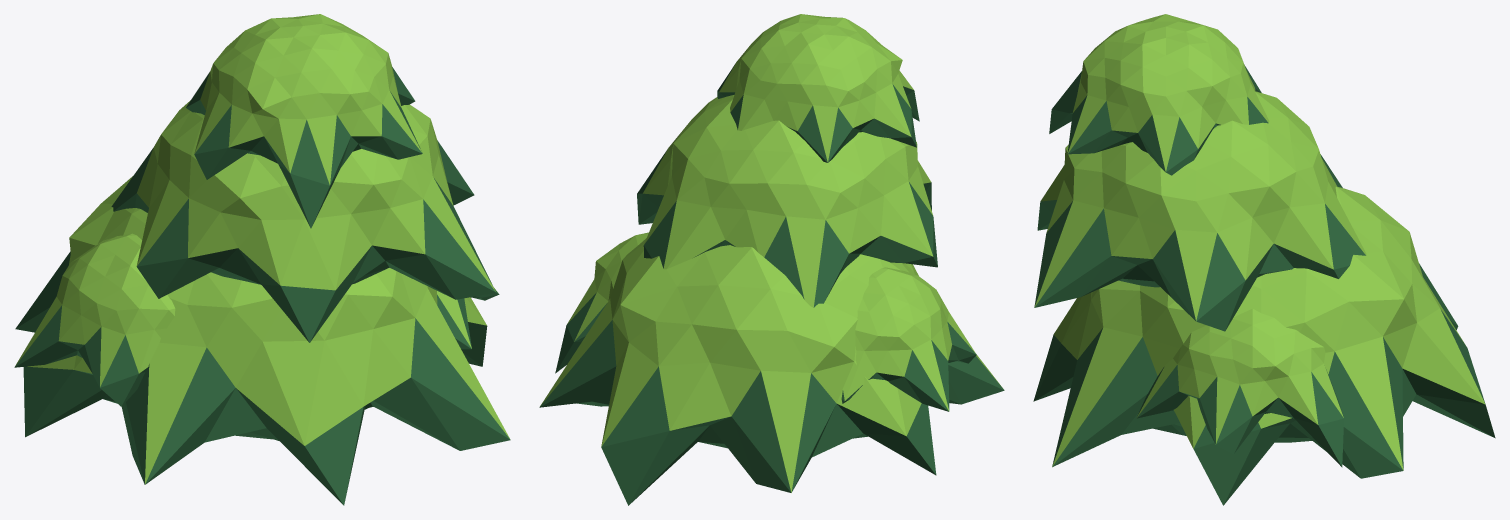
The model's file is tree_crown_a.glb.
3 renders of one model, left to right at view 1: azimuth 30°, elevation 25°; view 2: azimuth 150°, elevation 25°; view 3: azimuth 270°, elevation 25°, orthographic. The views are drawn at different scales.
Visible parts, largest first — view 1: leaf_lit, leaf_shade; view 2: leaf_lit, leaf_shade; view 3: leaf_lit, leaf_shade.
Boxes of the visible parts, left/top/right/bottom form: leaf_lit: left=15, top=14, right=509, bottom=484; leaf_shade: left=14, top=67, right=510, bottom=505; leaf_lit: left=540, top=14, right=1001, bottom=492; leaf_shade: left=539, top=63, right=1004, bottom=505; leaf_lit: left=1034, top=14, right=1485, bottom=470; leaf_shade: left=1033, top=65, right=1495, bottom=505.
Size of the model in its own units: 5.47 by 5.03 by 5.33.
